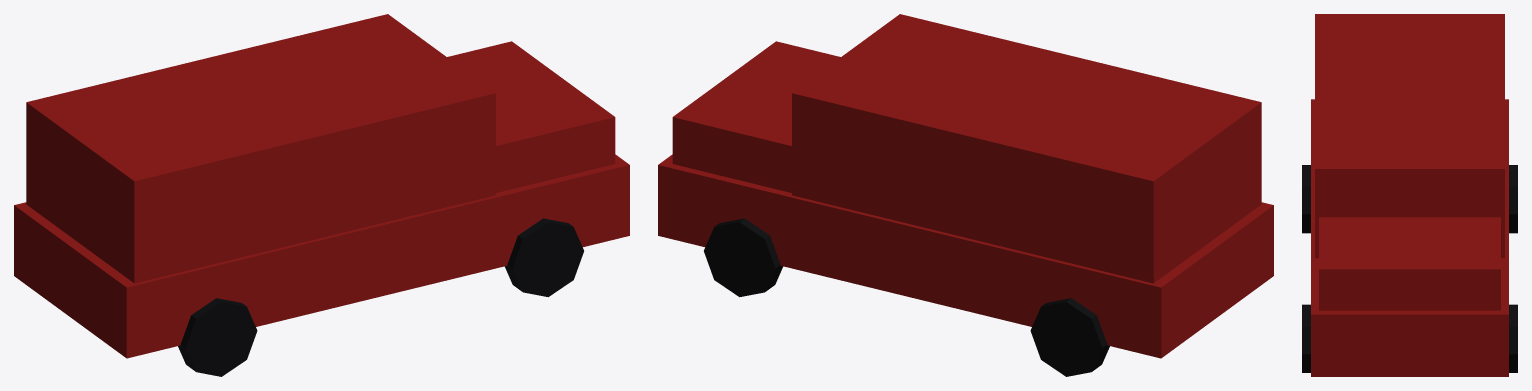
The model's file is proxy_van_red.dae.
3 views of the same model, side by side, from view 1: azimuth 30°, elevation 25°; view 2: azimuth 150°, elevation 25°; view 3: azimuth 270°, elevation 25° (orthographic). The views are drawn at different scales.
Parts seen in each view (by area): view 1: proxy_van; view 2: proxy_van; view 3: proxy_van.
Boxes of the visible parts, x1=… form: proxy_van: x1=14, y1=14, x2=629, y2=376; proxy_van: x1=658, y1=14, x2=1273, y2=376; proxy_van: x1=1302, y1=14, x2=1517, y2=376.
Size of the model in its own units: 5.05 by 2.14 by 2.01.
